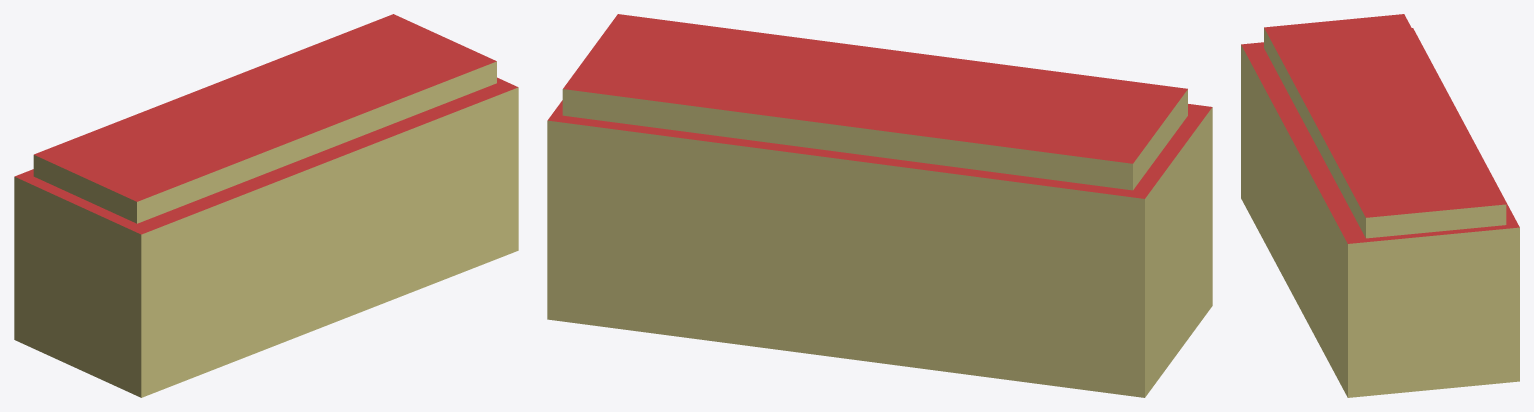
The picture shows the model from 3 angles, left to right: view 1: azimuth 30°, elevation 25°; view 2: azimuth 150°, elevation 25°; view 3: azimuth 270°, elevation 25°; orthographic projection. The views are drawn at different scales.
Visible parts, largest first — view 1: group_6, group_4, group_5, group_3; view 2: group_6, group_4, group_5, group_3; view 3: group_6, group_4, group_3, group_5.
Part boxes in pixels (<box>): group_6: <box>14,87,518,397</box>; group_4: <box>34,14,496,201</box>; group_5: <box>33,61,496,223</box>; group_3: <box>15,77,517,234</box>; group_6: <box>547,107,1212,397</box>; group_4: <box>563,14,1187,163</box>; group_5: <box>562,89,1187,190</box>; group_3: <box>547,100,1212,198</box>; group_6: <box>1241,45,1519,397</box>; group_4: <box>1264,14,1505,217</box>; group_3: <box>1241,28,1519,243</box>; group_5: <box>1264,28,1506,238</box>.
Size of the model in its own units: 41.9 by 22.86 by 15.79.
